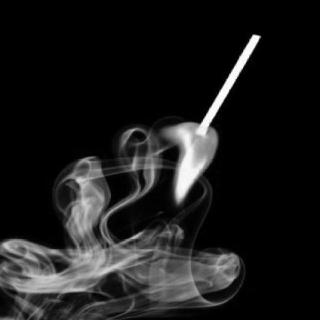Fire: (162, 121, 228, 225)
